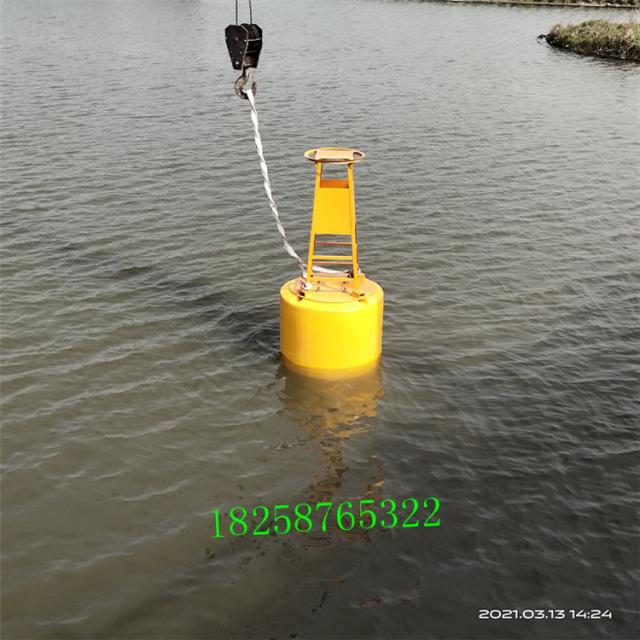buoy: (273, 141, 386, 381)
